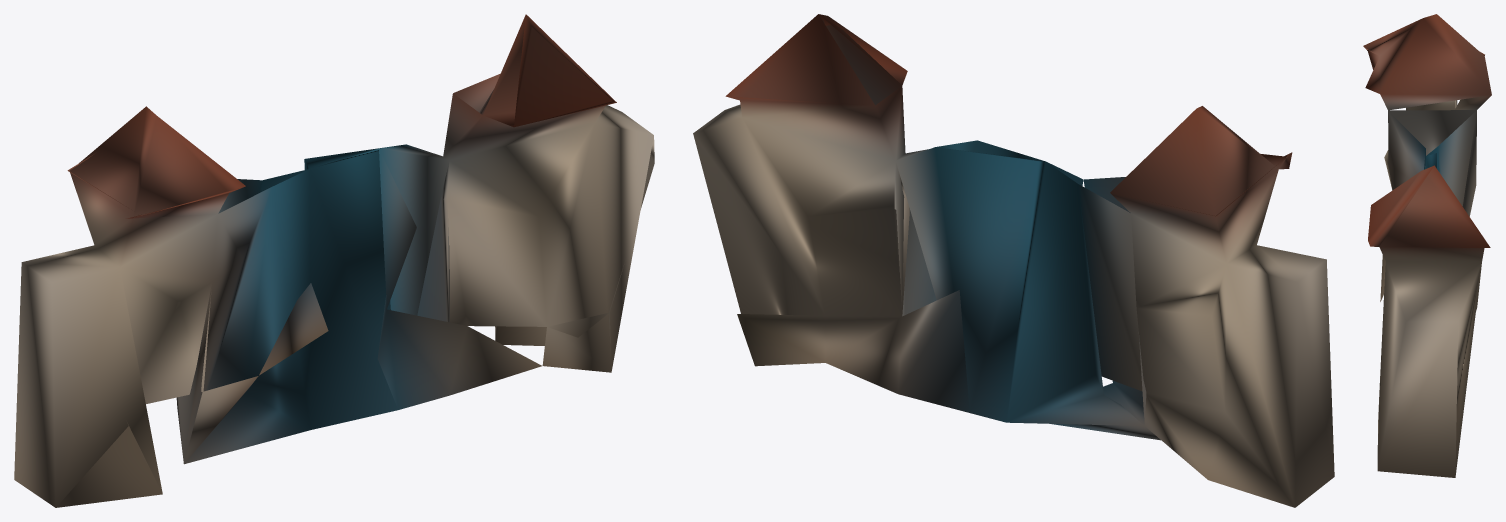
The model's file is decor_garden-gate_t1_azure.trellis.glb.
The picture shows the model from 3 angles, left to right: view 1: azimuth 30°, elevation 25°; view 2: azimuth 150°, elevation 25°; view 3: azimuth 270°, elevation 25°; orthographic projection. The views are drawn at different scales.
Visible parts, largest first — view 1: world; view 2: world; view 3: world.
Part boxes in pixels (x1,y1,x2,y2): world: (14, 14, 654, 507); world: (693, 14, 1334, 507); world: (1363, 14, 1491, 477).
Bounding box in the file's own units: 1.99 × 1.12 × 0.441.
